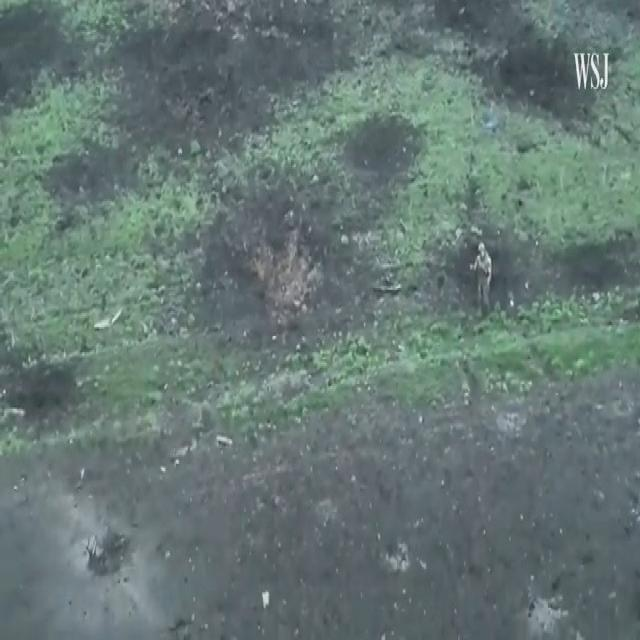Civilian: (470, 242, 491, 310)
